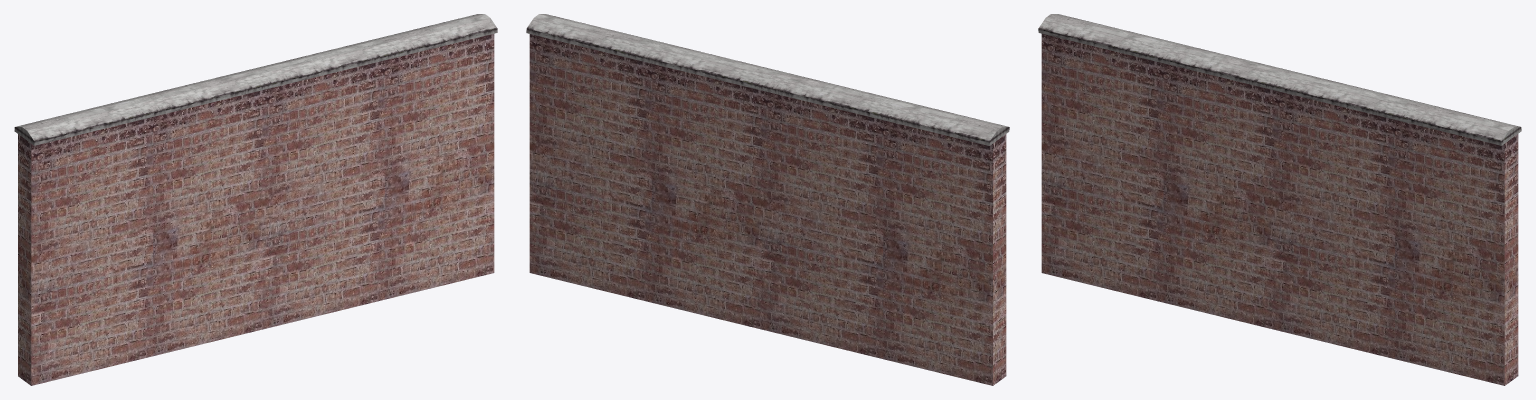
The model's file is BrickWall_Panel_Full_Model.fbx.
3 renders of one model, left to right at view 1: azimuth 30°, elevation 25°; view 2: azimuth 150°, elevation 25°; view 3: azimuth 330°, elevation 25°, orthographic.
Parts seen in each view (by area): view 1: Body; view 2: Body; view 3: Body.
Boxes of the visible parts, <box> form: Body: <box>14,14,497,385</box>; Body: <box>526,14,1009,385</box>; Body: <box>1038,14,1521,385</box>.
Size of the model in its own units: 400 by 208 by 30.
